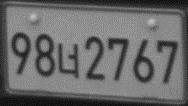2: (84, 35, 106, 80)
6: (133, 39, 154, 83)
7: (106, 36, 129, 81), (156, 39, 179, 84)
8: (34, 33, 55, 77)
9: (11, 32, 31, 75)
너: (57, 41, 79, 79)
